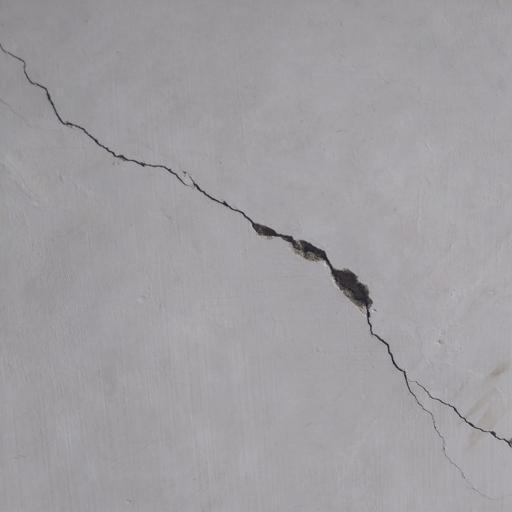major_crack: (0, 24, 512, 493)
